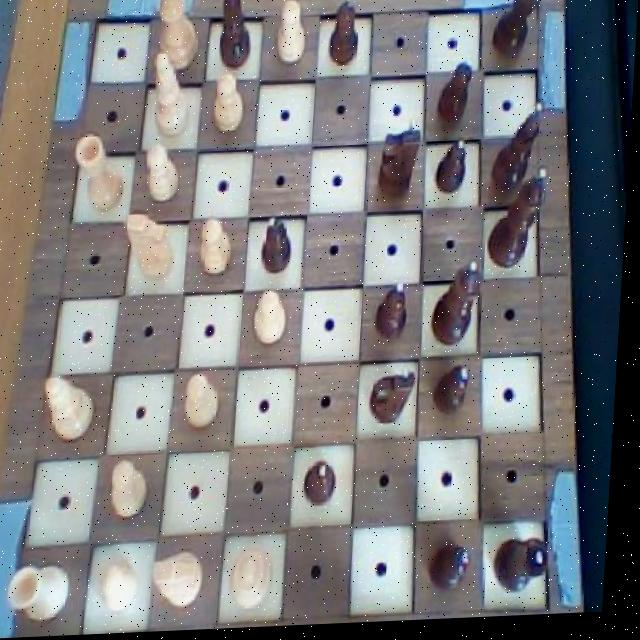bishop: (490, 104, 548, 197), (209, 0, 258, 74)
black-bishop: (490, 168, 556, 274)
black-king: (378, 119, 424, 204), (368, 371, 422, 433)
black-knight: (430, 539, 482, 600), (322, 0, 366, 71), (433, 363, 482, 426), (435, 60, 477, 133), (374, 282, 417, 349), (260, 214, 299, 279), (435, 139, 473, 201), (305, 455, 345, 511)
black-pawn: (429, 264, 489, 353)
black-queen: (498, 534, 560, 603), (490, 0, 546, 71)
black-rook: (144, 48, 197, 142), (44, 370, 107, 448)
white-bishop: (146, 0, 204, 73)
white-king: (123, 209, 182, 285), (157, 550, 212, 613)
white-knight: (111, 453, 158, 524), (252, 286, 297, 352), (269, 0, 312, 69), (210, 73, 250, 139), (199, 216, 240, 280), (105, 560, 150, 617), (186, 371, 227, 433), (144, 144, 184, 206)
white-pawn: (231, 541, 284, 618)
white-queen: (71, 130, 130, 220), (11, 561, 81, 632)
